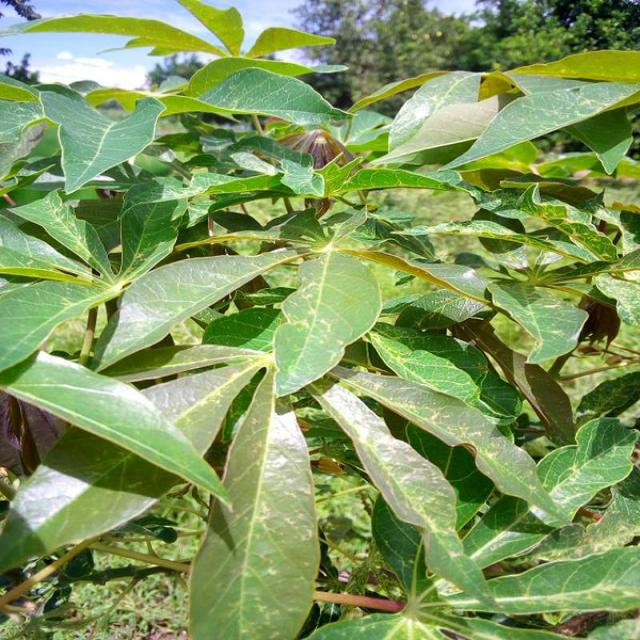cassava leaf: (0, 5, 638, 637), (187, 365, 320, 638), (272, 246, 382, 398)
